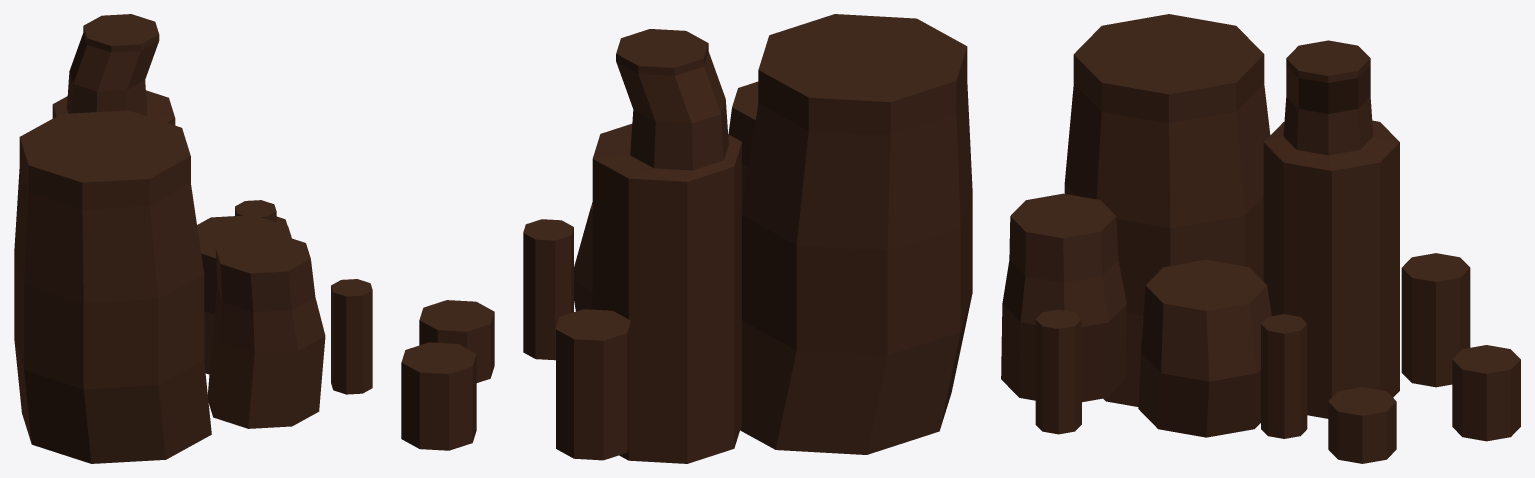
The model's file is kamienie_1.fbx.
3 renders of one model, left to right at view 1: azimuth 30°, elevation 25°; view 2: azimuth 150°, elevation 25°; view 3: azimuth 270°, elevation 25°, orthographic. The views are drawn at different scales.
Parts seen in each view (by area): view 1: Cylinder.007; view 2: Cylinder.007; view 3: Cylinder.007.
Boxes of the visible parts, left/top/right/bottom form: Cylinder.007: left=14, top=14, right=372, bottom=463; Cylinder.007: left=401, top=14, right=972, bottom=463; Cylinder.007: left=1001, top=14, right=1520, bottom=463.
Size of the model in its own units: 2012 by 1784 by 2402.
